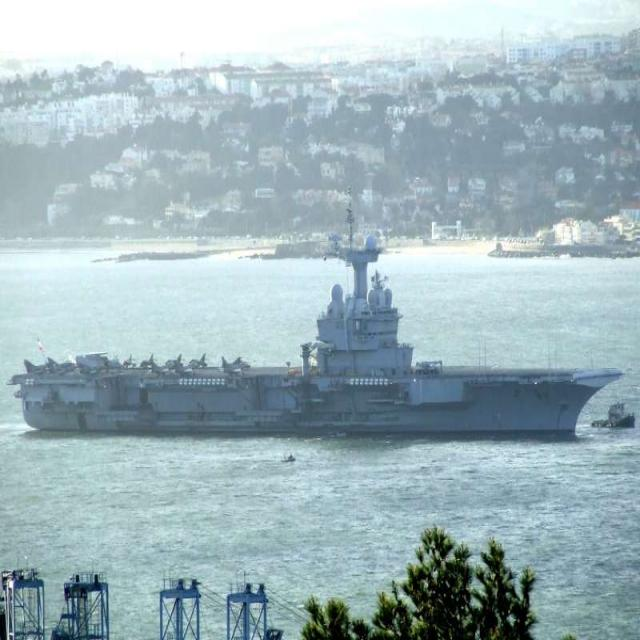Portanaves: (12, 185, 631, 439)
